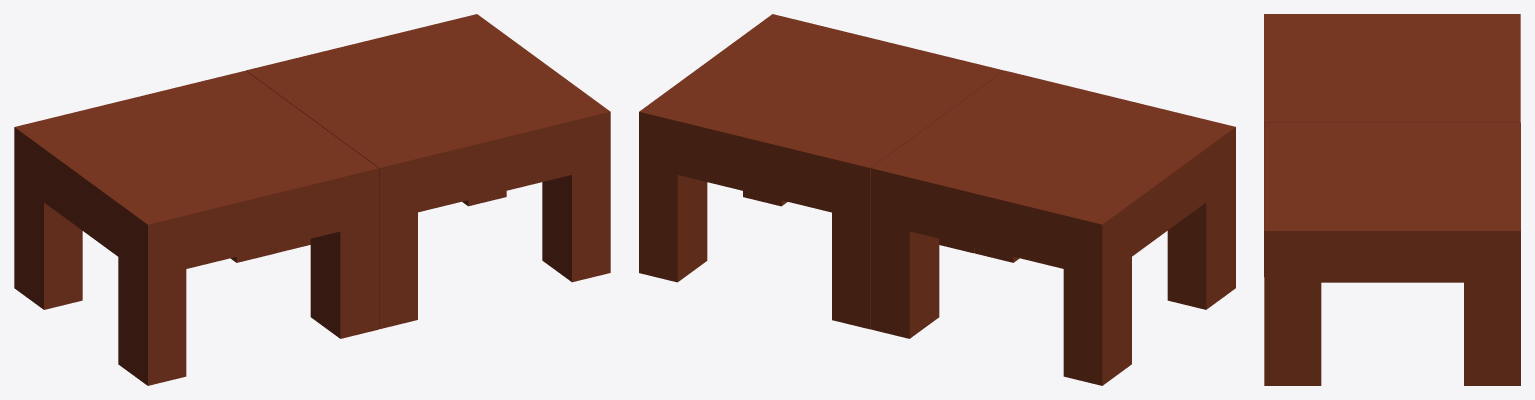
File: keva_bank_lifted.dae
3 renders of one model, left to right at view 1: azimuth 30°, elevation 25°; view 2: azimuth 150°, elevation 25°; view 3: azimuth 270°, elevation 25°, orthographic. The views are drawn at different scales.
Visible parts, largest first — view 1: base (×7); view 2: base (×7); view 3: base (×4).
Part boxes in pixels (box(x1,y1,x2,y2)): base (×7): box(14, 14, 610, 385); base (×7): box(639, 14, 1235, 385); base (×4): box(1264, 14, 1520, 385).
Bounding box in the file's own units: 1.8 × 0.9009 × 0.6.
